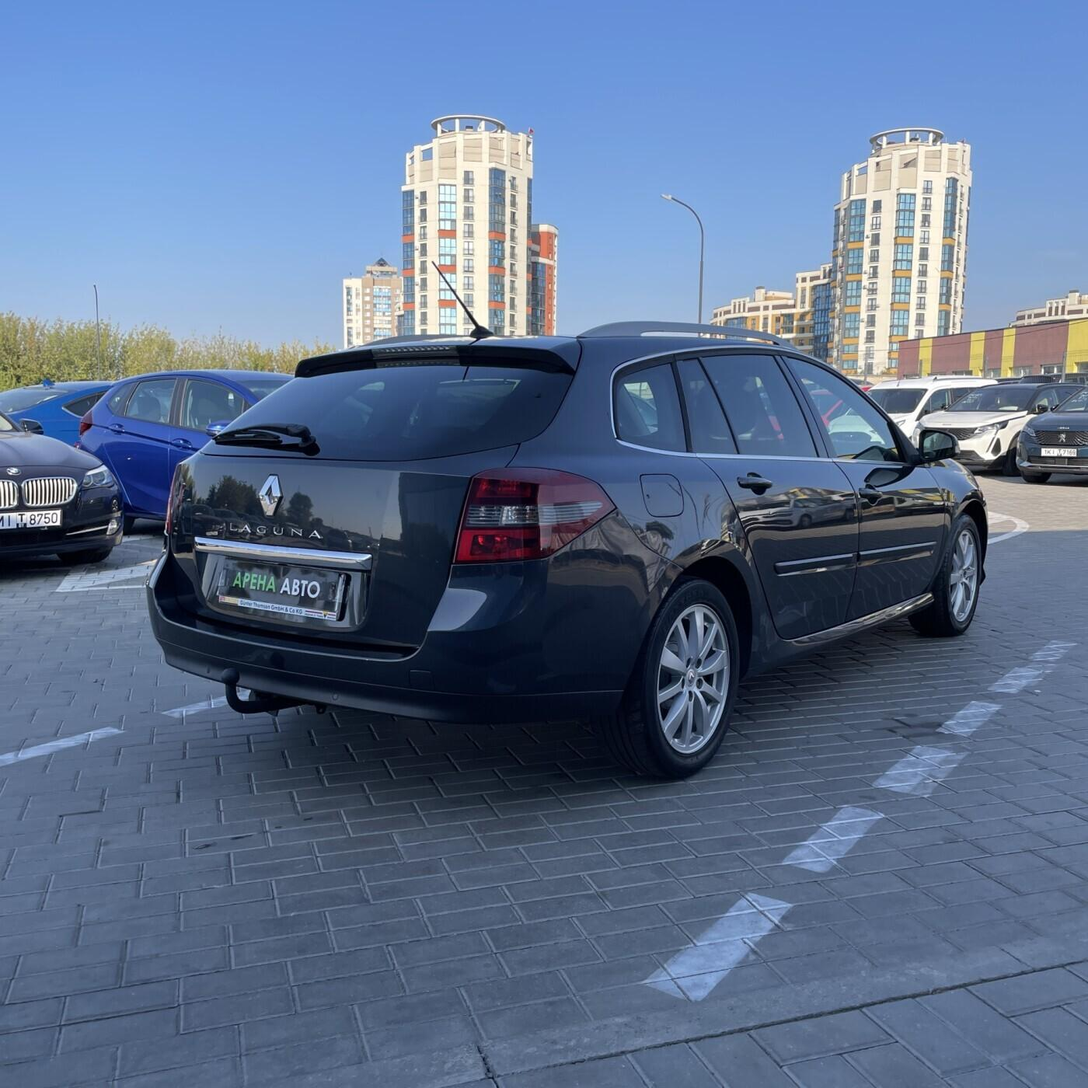Laguna_2010-2015: (141, 322, 992, 779)
